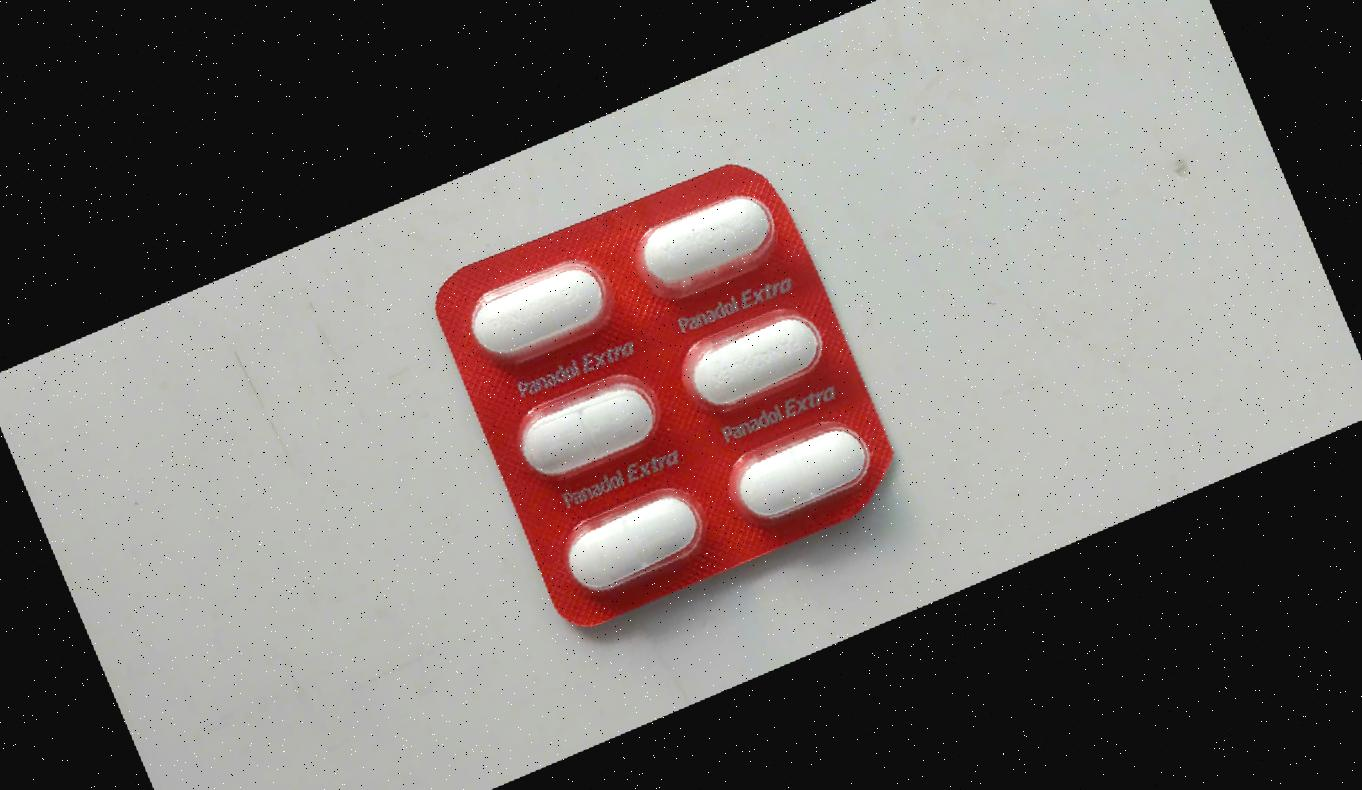Empty: (255, 730, 417, 790), (279, 745, 440, 790), (303, 760, 464, 790)
Full: (449, 241, 631, 387), (497, 359, 679, 505), (548, 465, 730, 611), (662, 280, 844, 426), (614, 173, 796, 319), (709, 403, 891, 548)
